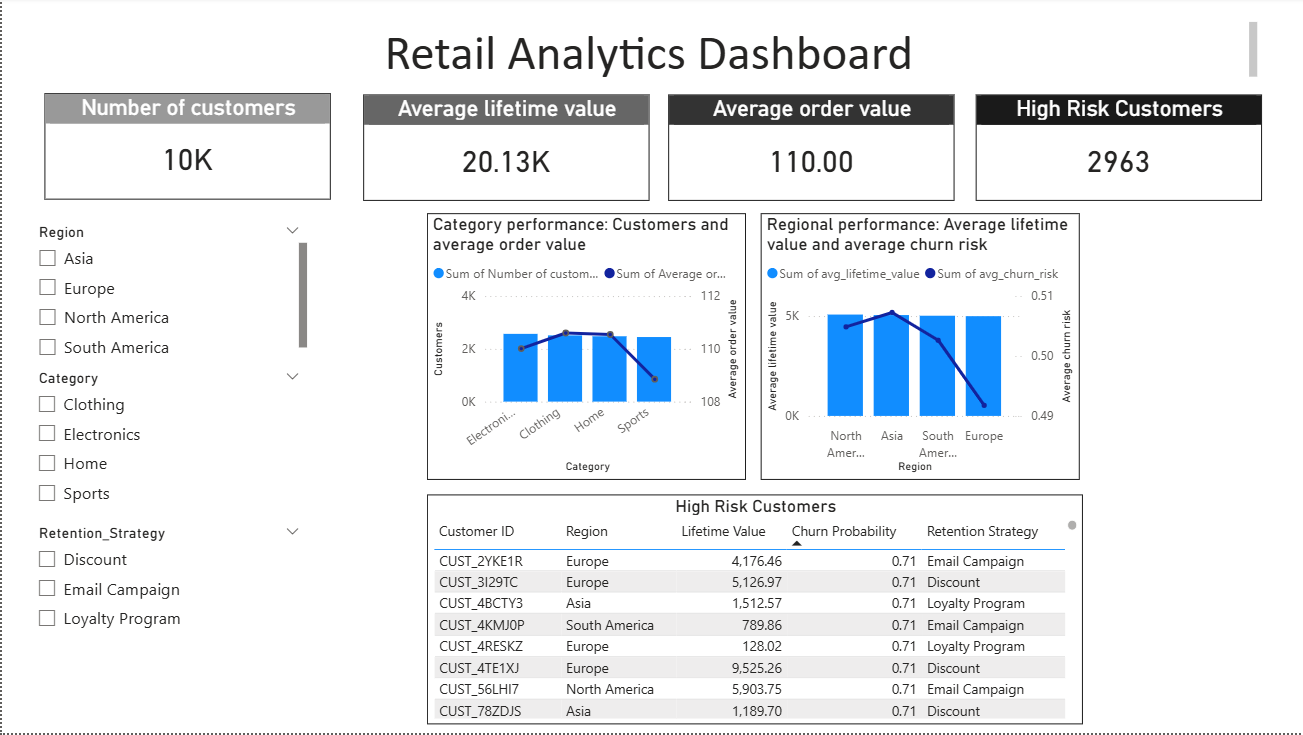

This screenshot's page, from the dashboard's own definition file:
{"tool":"powerbi","page":{"name":"Page 1","canvas":[1280,720],"ordinal":0},"visuals":[{"type":"card","title":"Number of customers","fields":{"Values":["Sum(category_performance.Number of customers)"]},"box":[41.6,94.2,280,103.9],"z":0},{"type":"card","title":"Average lifetime value","fields":{"Values":["Sum(cutomervalueby_region.avg_lifetime_value)"]},"box":[353.4,95.4,280,103.9],"z":1},{"type":"card","title":"Average order value","fields":{"Values":["Avg(category_performance.Average order value)"]},"box":[651.8,95.4,280,103.9],"z":2},{"type":"card","title":"High Risk Customers","fields":{"Values":["Count(high_risk_customers.Customer_ID)","select"]},"box":[952.6,95.4,280,103.9],"z":3},{"type":"lineClusteredColumnComboChart","title":"Category performance: Customers and average order value","fields":{"Y":["Sum(category_performance.Number of customers)"],"Category":["category_performance.Category"],"Y2":["Sum(category_performance.Average order value)"]},"box":[415.8,211.6,311.8,260.5],"z":4},{"type":"lineClusteredColumnComboChart","title":"Regional performance: Average lifetime value and average churn risk","fields":{"Y":["Sum(cutomervalueby_region.avg_lifetime_value)"],"Category":["cutomervalueby_region.Region"],"Y2":["Sum(cutomervalueby_region.avg_churn_risk)"]},"box":[742.3,211.6,311.8,260.5],"z":5},{"type":"tableEx","title":"High Risk Customers","fields":{"Values":["high_risk_customers.Customer_ID","high_risk_customers.Region","Sum(high_risk_customers.Lifetime_Value)","Sum(high_risk_customers.Churn_Probability)","high_risk_customers.Retention_Strategy"]},"box":[415.8,486.7,642,225],"z":6},{"type":"slicer","fields":{"Values":["high_risk_customers.Region"]},"box":[23.2,216.4,280,143.1],"z":7},{"type":"slicer","fields":{"Values":["category_performance.Category"]},"box":[23.2,359.5,280,149.2],"z":8},{"type":"slicer","fields":{"Values":["high_risk_customers.Retention_Strategy"]},"box":[23.2,511.1,280,123.5],"z":9},{"type":"textbox","box":[41.6,19.6,1191,66],"z":10}]}

Visuals, with their boxes in screenshot pixels (x1, y1, x2, y2), scaled from the page's 1280x720 canvas onto the 1303x735 screenshot:
"Number of customers" card: bbox(42, 96, 327, 202)
"Average lifetime value" card: bbox(360, 97, 645, 203)
"Average order value" card: bbox(664, 97, 949, 203)
"High Risk Customers" card: bbox(970, 97, 1255, 203)
"Category performance: Customers and average order value" lineClusteredColumnComboChart: bbox(423, 216, 741, 482)
"Regional performance: Average lifetime value and average churn risk" lineClusteredColumnComboChart: bbox(756, 216, 1073, 482)
"High Risk Customers" tableEx: bbox(423, 497, 1077, 727)
slicer - high_risk_customers.Region: bbox(24, 221, 309, 367)
slicer - category_performance.Category: bbox(24, 367, 309, 519)
slicer - high_risk_customers.Retention_Strategy: bbox(24, 522, 309, 648)
textbox: bbox(42, 20, 1255, 87)
